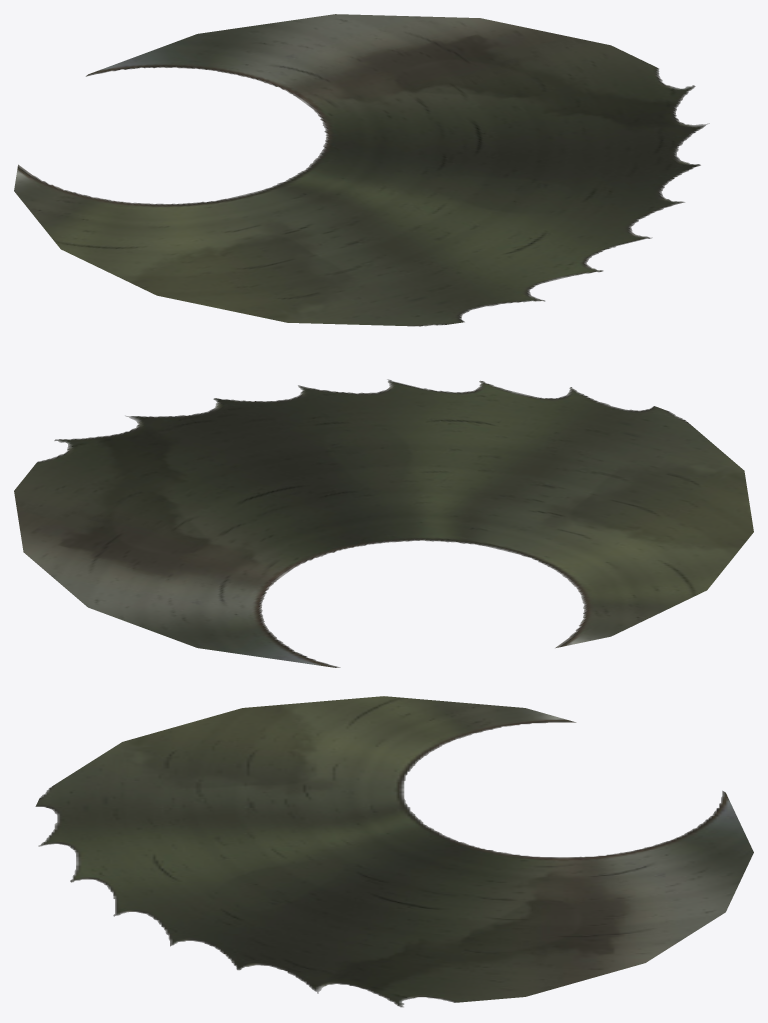
File: roomba-bot-melee-saw.fbx
The picture shows the model from 3 angles, top to bottom: view 1: azimuth 30°, elevation 25°; view 2: azimuth 150°, elevation 25°; view 3: azimuth 270°, elevation 25°; orthographic projection.
Parts seen in each view (by area): view 1: roomba-saw; view 2: roomba-saw; view 3: roomba-saw.
Boxes of the visible parts, x1,y1,x2,y2 form: roomba-saw: (14,14,709,326); roomba-saw: (14,379,753,667); roomba-saw: (35,696,753,1007).
Size of the model in its own units: 115 by 1.87e-05 by 115.
